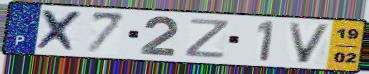1: (255, 20, 276, 64)
2: (138, 14, 183, 58)
7: (87, 10, 128, 56)
V: (285, 21, 334, 65)
X: (33, 8, 87, 54)
Z: (183, 17, 233, 60)
